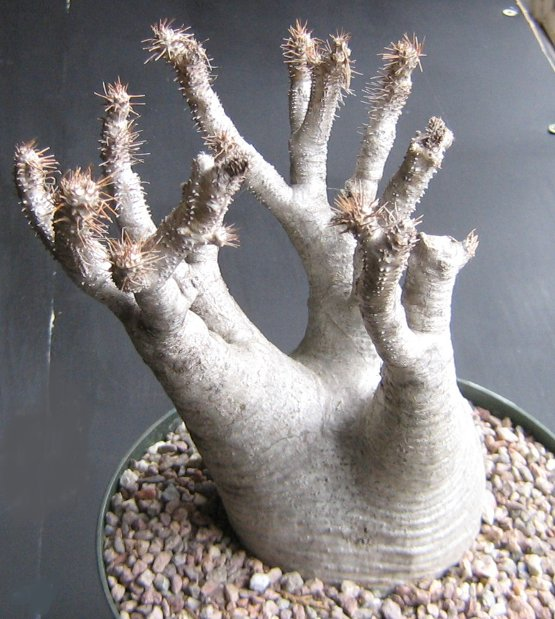Pachypodium rosulatum: (71, 34, 518, 591)
